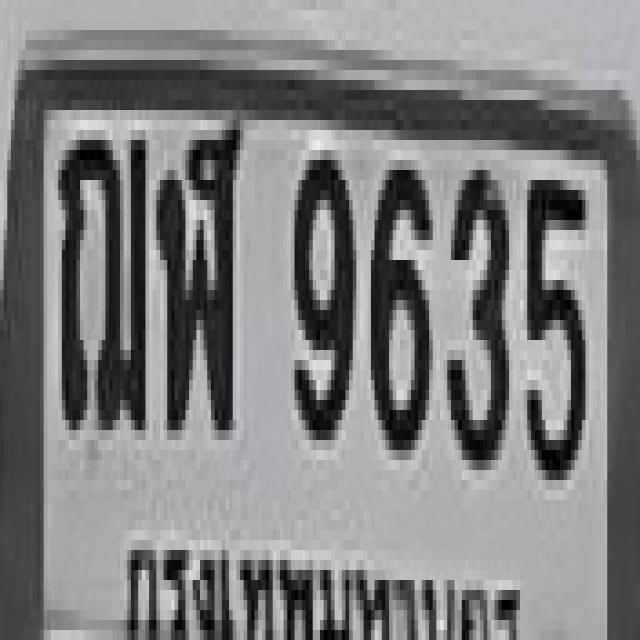3: (444, 160, 506, 460)
5: (524, 165, 582, 465)
6: (366, 150, 428, 440)
9: (289, 140, 351, 430)
A12: (54, 115, 146, 425)
A42: (156, 105, 240, 425)
